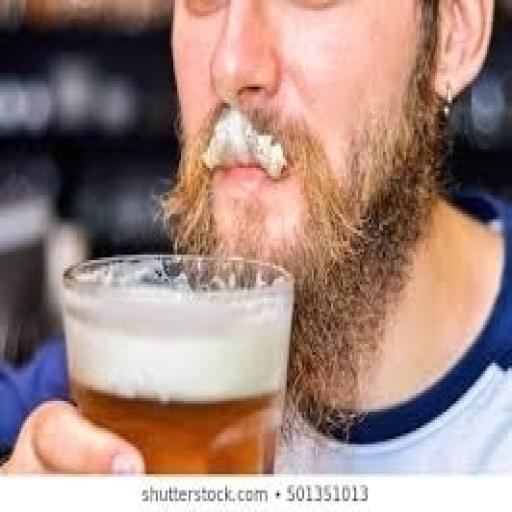drinking: (60, 252, 294, 474)
